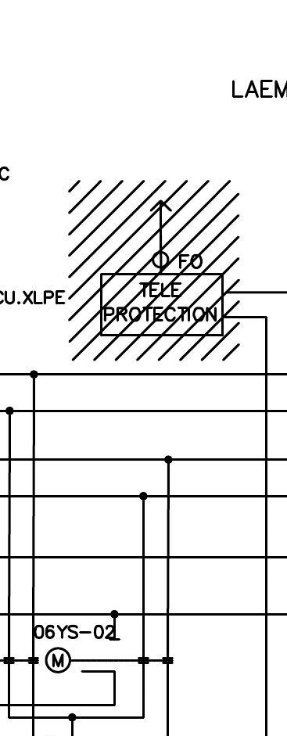115_1way_ds_w_motor: (44, 638, 121, 674)
tele_protection: (98, 271, 226, 339)
